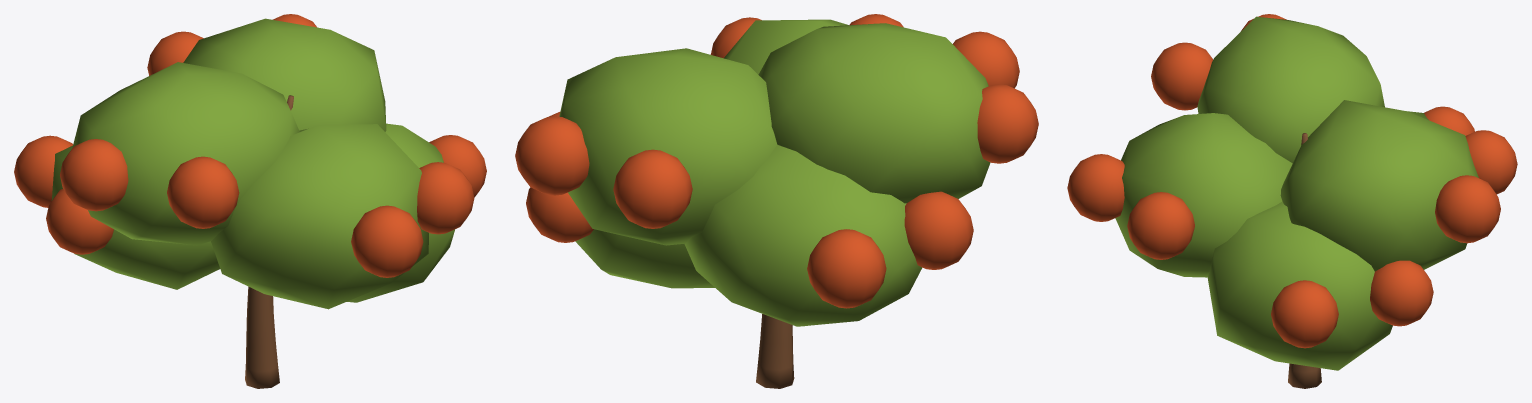
Rendered from Berry_shrub.glb.
3 renders of one model, left to right at view 1: azimuth 30°, elevation 25°; view 2: azimuth 150°, elevation 25°; view 3: azimuth 270°, elevation 25°, orthographic. The views are drawn at different scales.
Visible parts, largest first — view 1: Berry_shrub; view 2: Berry_shrub; view 3: Berry_shrub.
Part boxes in pixels (x1,y1,x2,y2): Berry_shrub: (14, 14, 486, 388); Berry_shrub: (515, 14, 1038, 388); Berry_shrub: (1067, 14, 1517, 388).
Size of the model in its own units: 1.81 by 1.32 by 1.72.
